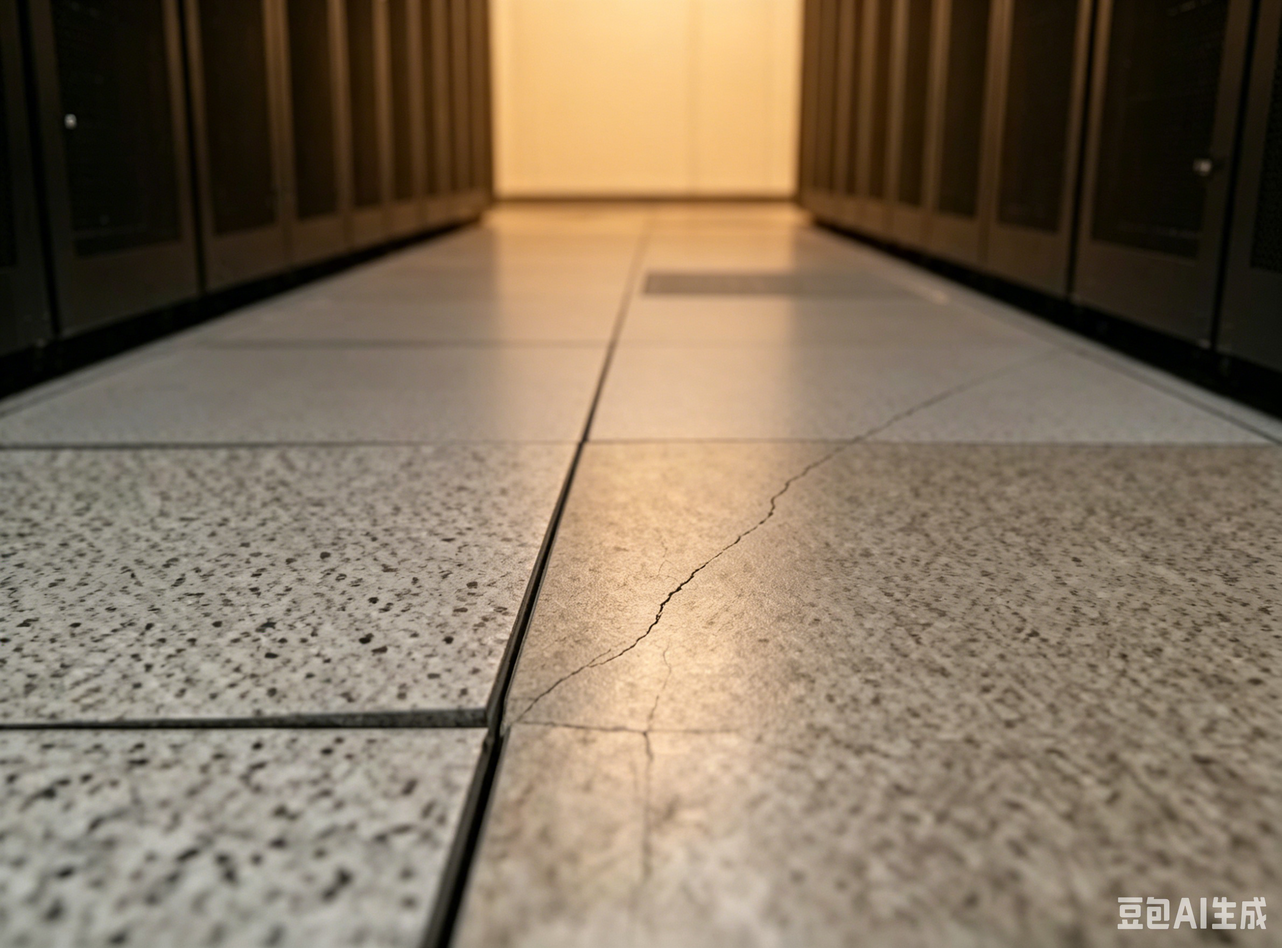floor_defect: (21, 689, 649, 763), (484, 426, 591, 709), (423, 769, 507, 945), (591, 574, 694, 668), (770, 441, 854, 520), (687, 522, 764, 572)
